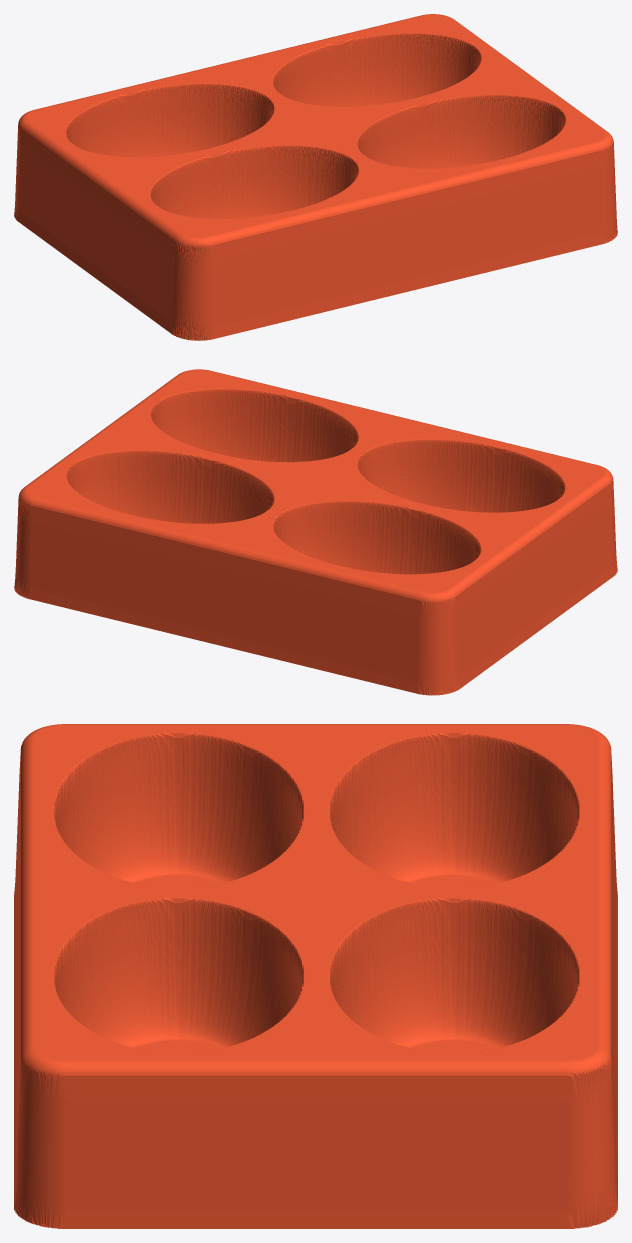
Rendered from mold.glb.
3 views of the same model, one above another, from view 1: azimuth 30°, elevation 25°; view 2: azimuth 150°, elevation 25°; view 3: azimuth 270°, elevation 25° (orthographic). The views are drawn at different scales.
Visible parts, largest first — view 1: geometry_0; view 2: geometry_0; view 3: geometry_0.
Part boxes in pixels (bbox=[...]): geometry_0: bbox=[14, 14, 617, 340]; geometry_0: bbox=[14, 369, 617, 695]; geometry_0: bbox=[14, 724, 617, 1228].
Bounding box in the file's own units: 0.1466 × 0.031 × 0.1062.
